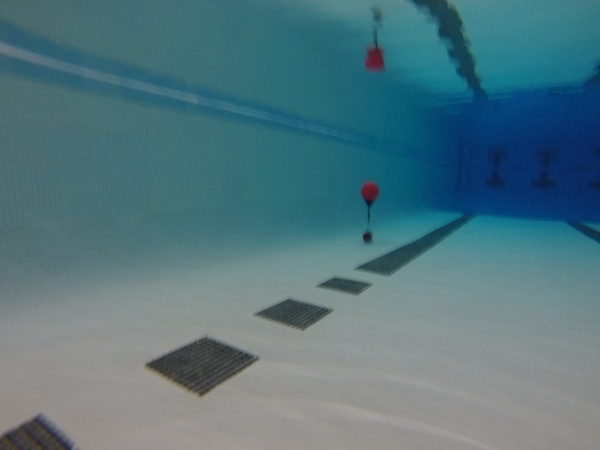buoy_red: (360, 180, 380, 208)
